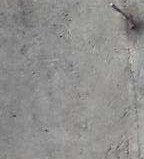Exposed reinforcement: (110, 3, 130, 21)
